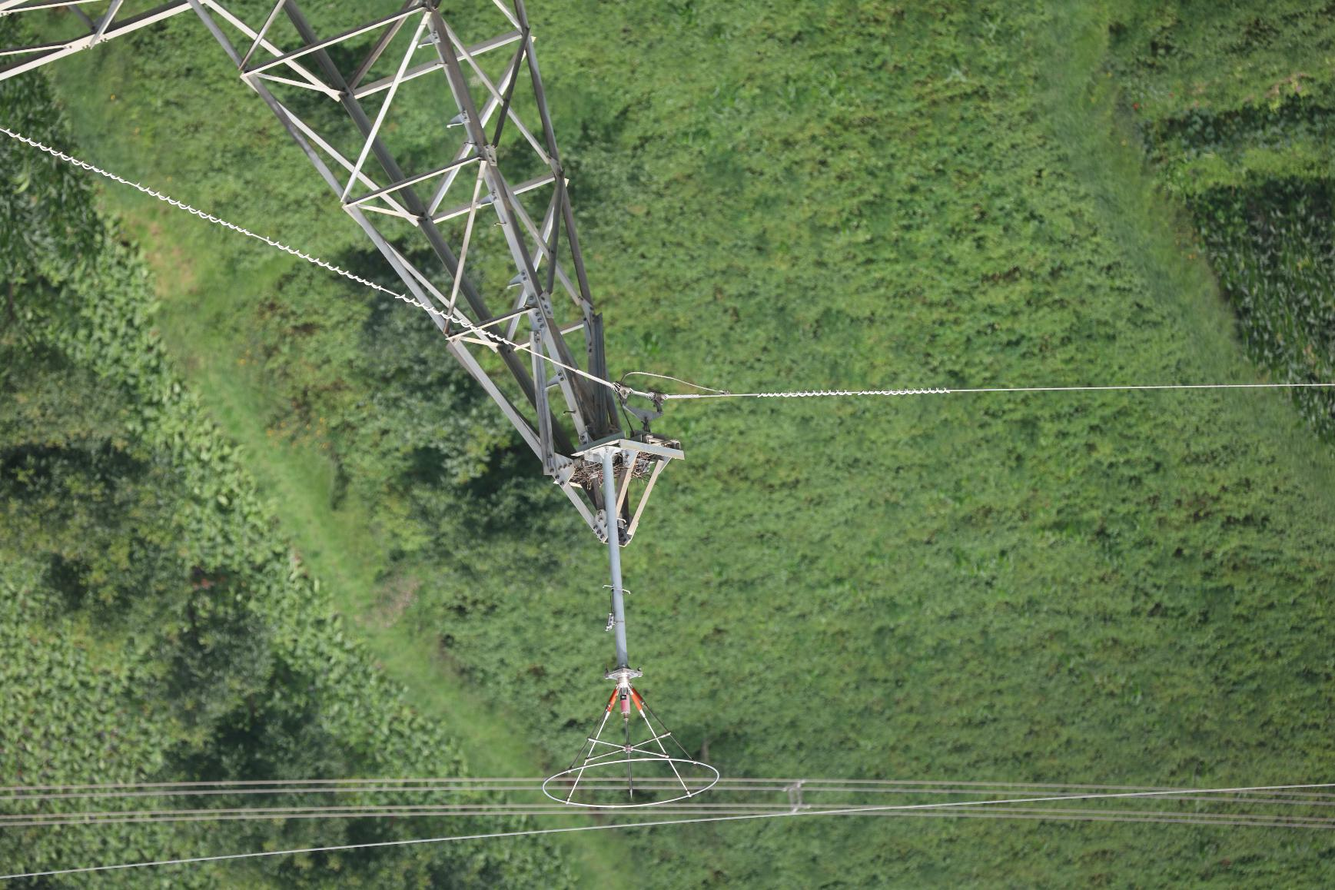nest: (572, 451, 653, 491)
